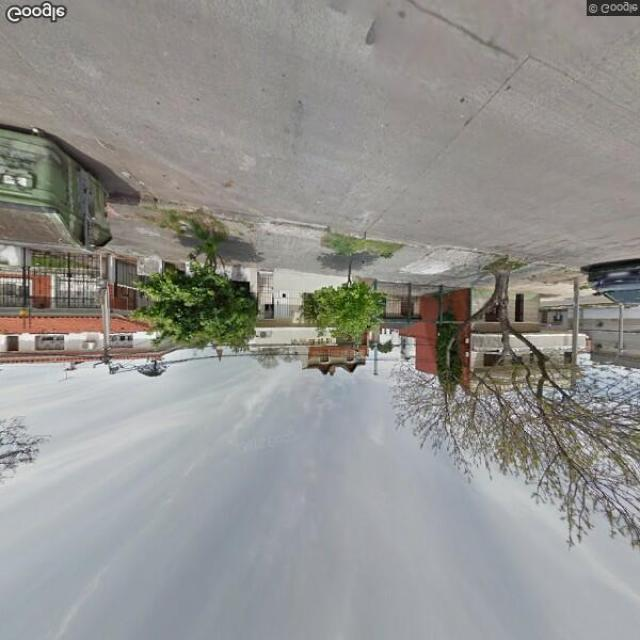garbage container: (2, 119, 130, 262)
